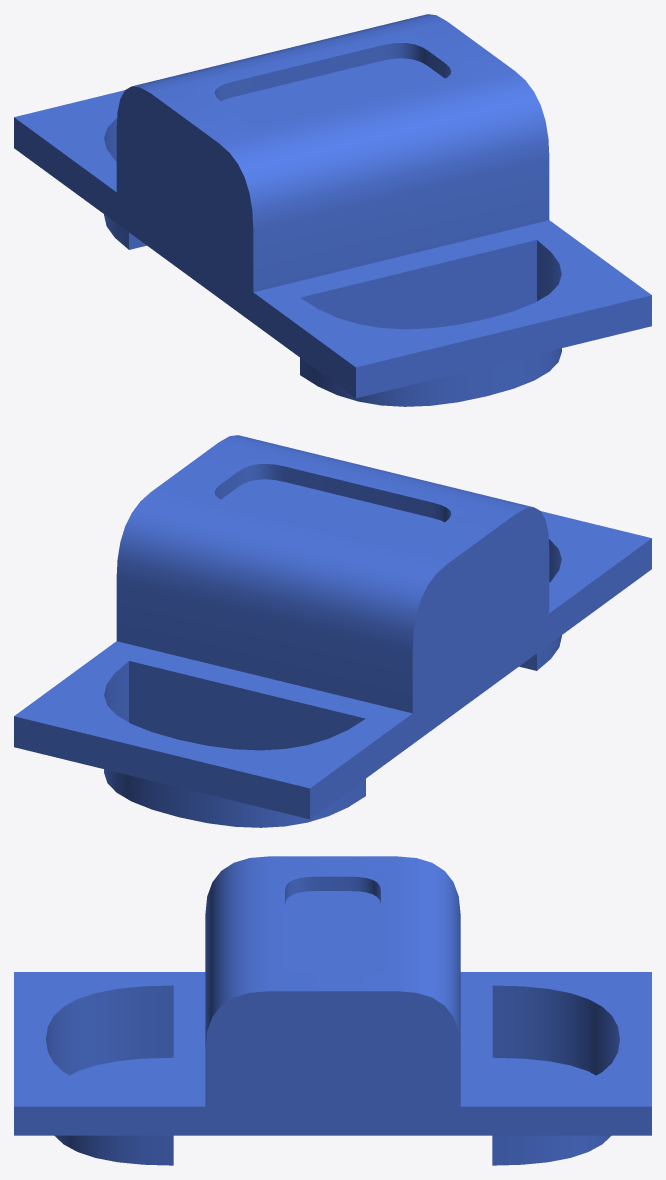
Rendered from Ceiling_2x1m_D.FBX.
3 renders of one model, top to bottom at view 1: azimuth 30°, elevation 25°; view 2: azimuth 150°, elevation 25°; view 3: azimuth 270°, elevation 25°, orthographic. The views are drawn at different scales.
Parts seen in each view (by area): view 1: Ceiling_2x1m_D; view 2: Ceiling_2x1m_D; view 3: Ceiling_2x1m_D.
Part boxes in pixels (<box>): Ceiling_2x1m_D: <box>14,14,651,406</box>; Ceiling_2x1m_D: <box>14,435,651,827</box>; Ceiling_2x1m_D: <box>14,856,651,1165</box>.
Size of the model in its own units: 100 by 65 by 200.
